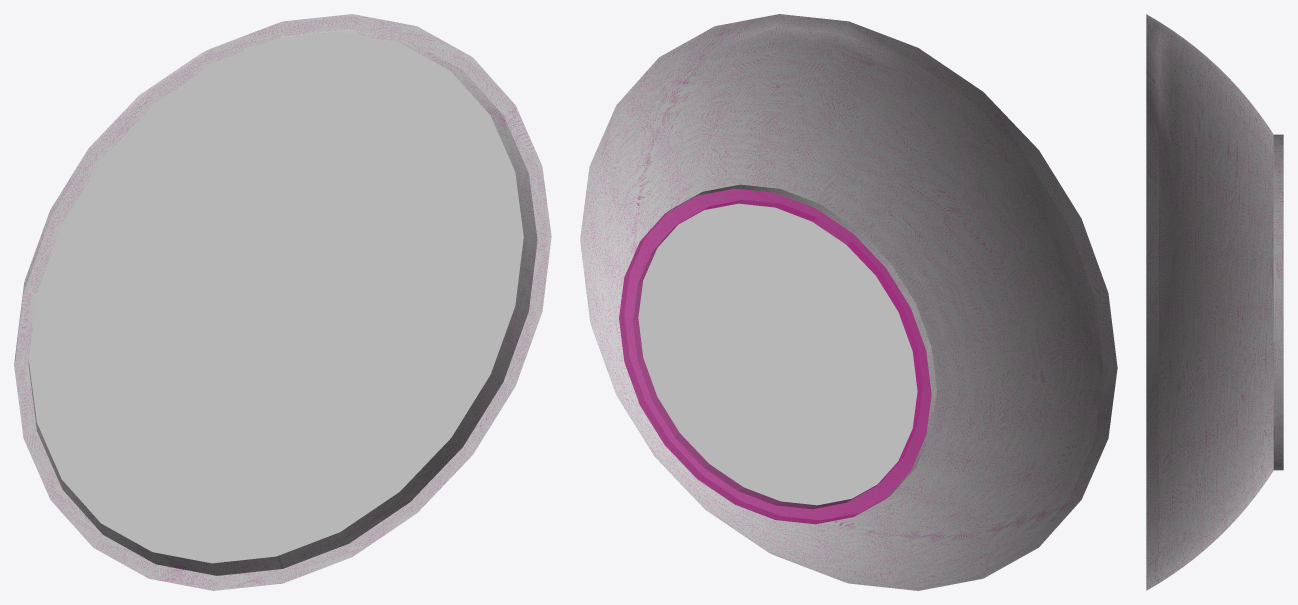
Rendered from model_scale.obj.
The picture shows the model from 3 angles, left to right: view 1: azimuth 30°, elevation 25°; view 2: azimuth 150°, elevation 25°; view 3: azimuth 270°, elevation 25°; orthographic projection. The views are drawn at different scales.
Visible parts, largest first — view 1: mesh1_mesh1-geometry; view 2: mesh1_mesh1-geometry; view 3: mesh1_mesh1-geometry.
Part boxes in pixels (x1,y1,x2,y2): mesh1_mesh1-geometry: (14,14,551,590); mesh1_mesh1-geometry: (580,14,1117,590); mesh1_mesh1-geometry: (1146,14,1283,590).
Bounding box in the file's own units: 0.1505 × 0.1505 × 0.0358.
